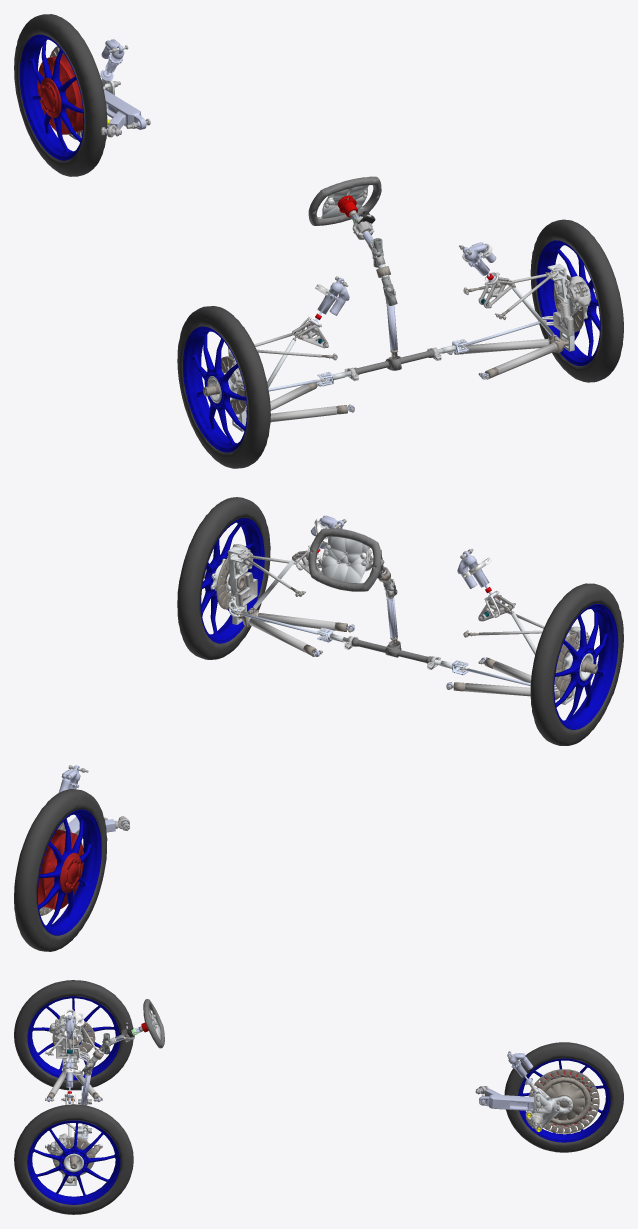
File: new_dyn.glb
3 renders of one model, top to bottom at view 1: azimuth 30°, elevation 25°; view 2: azimuth 150°, elevation 25°; view 3: azimuth 270°, elevation 25°, orthographic. The views are drawn at different scales.
Visible parts, largest first — view 1: empty_273, empty_367, empty_275, empty_274, empty_366, empty_276, empty_370, empty_226, empty_345, empty_8, empty_225, empty_190 (+2 smaller); view 2: empty_367, empty_273, empty_275, empty_274, empty_366, empty_276, empty_224, empty_225, empty_370, empty_190, empty_287, empty_9; view 3: empty_275, empty_367, empty_273, empty_276, empty_274, empty_366, empty_369, empty_371, empty_345, empty_303, empty_278, empty_224 (+1 smaller).
Boxes of the visible parts, x1,y1,x2,y2 form: empty_273: [177, 306, 270, 468]; empty_367: [14, 14, 107, 176]; empty_275: [530, 219, 623, 382]; empty_274: [183, 326, 247, 452]; empty_366: [19, 34, 84, 160]; empty_276: [536, 240, 600, 365]; empty_370: [37, 54, 83, 134]; empty_226: [309, 178, 381, 225]; empty_345: [104, 89, 146, 129]; empty_8: [466, 339, 548, 353]; empty_225: [319, 185, 368, 218]; empty_190: [349, 349, 434, 376]; empty_367: [14, 789, 107, 951]; empty_273: [530, 583, 623, 745]; empty_275: [177, 497, 270, 659]; empty_274: [553, 604, 618, 729]; empty_366: [37, 809, 101, 935]; empty_276: [200, 518, 264, 643]; empty_224: [308, 528, 381, 591]; empty_225: [319, 536, 370, 583]; empty_370: [38, 829, 83, 909]; empty_190: [351, 638, 436, 664]; empty_287: [227, 546, 248, 624]; empty_9: [257, 613, 336, 630]; empty_275: [14, 1104, 133, 1214]; empty_367: [504, 1042, 623, 1152]; empty_273: [14, 980, 133, 1090]; empty_276: [27, 1120, 120, 1204]; empty_274: [27, 996, 120, 1080]; empty_366: [518, 1058, 610, 1142]; empty_369: [541, 1077, 590, 1125]; empty_371: [529, 1069, 599, 1133]; empty_345: [479, 1088, 546, 1111]; empty_303: [530, 1088, 572, 1127]; empty_278: [52, 1137, 95, 1176]; empty_224: [144, 999, 164, 1048].
Bounding box in the file's own units: 3.84 × 1.9 × 7.2.
